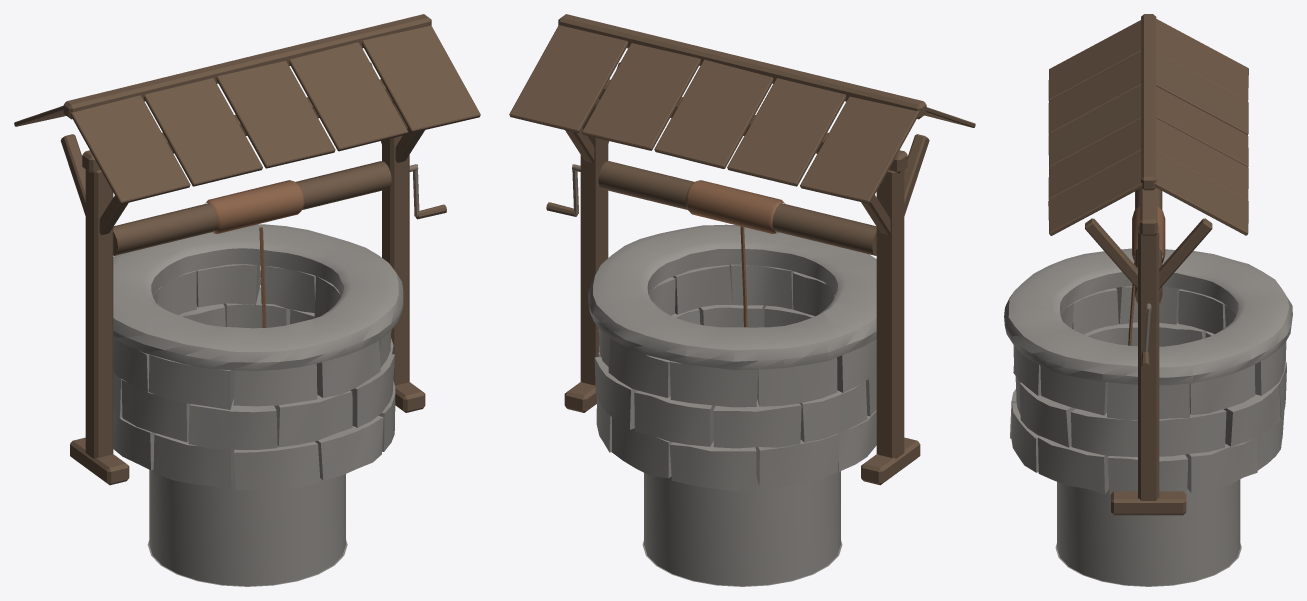
File: well_dry.glb
3 views of the same model, side by side, from view 1: azimuth 30°, elevation 25°; view 2: azimuth 150°, elevation 25°; view 3: azimuth 270°, elevation 25° (orthographic). The views are drawn at different scales.
Visible parts, largest first — view 1: well_dry; view 2: well_dry; view 3: well_dry.
Part boxes in pixels (x1,y1,x2,y2): well_dry: (14, 14, 480, 586); well_dry: (509, 14, 975, 586); well_dry: (1004, 14, 1292, 586).
Bounding box in the file's own units: 2.7 × 3.32 × 1.92.
